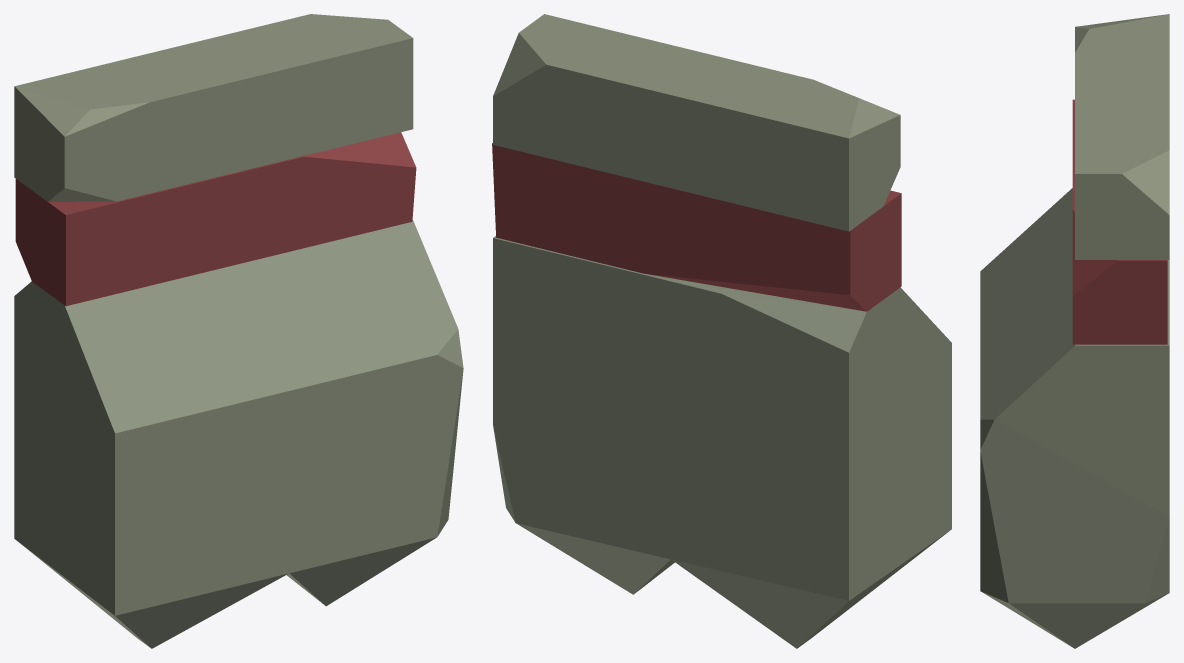
Rendered from railing.fbx.
The picture shows the model from 3 angles, left to right: view 1: azimuth 30°, elevation 25°; view 2: azimuth 150°, elevation 25°; view 3: azimuth 270°, elevation 25°; orthographic projection. The views are drawn at different scales.
Visible parts, largest first — view 1: railing; view 2: railing; view 3: railing.
Boxes of the visible parts, left/top/right/bottom form: railing: left=14, top=14, right=463, bottom=648; railing: left=492, top=14, right=951, bottom=648; railing: left=980, top=14, right=1169, bottom=648.
Size of the model in its own units: 101 by 150 by 50.
